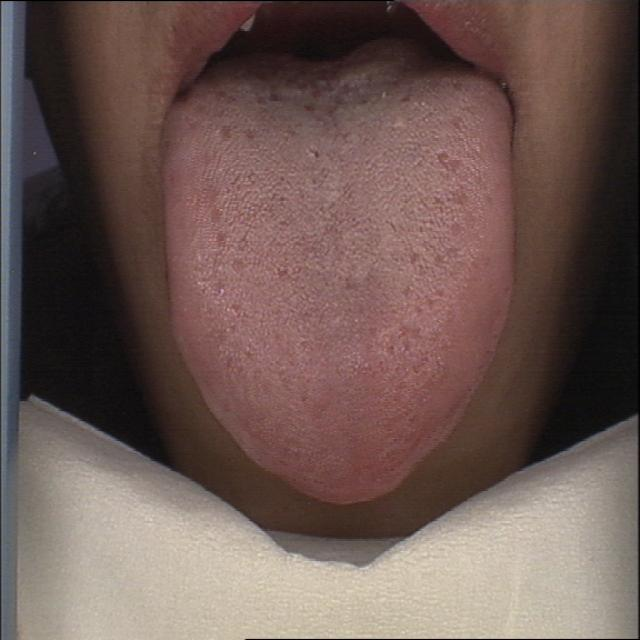tongue: (156, 68, 524, 515)
